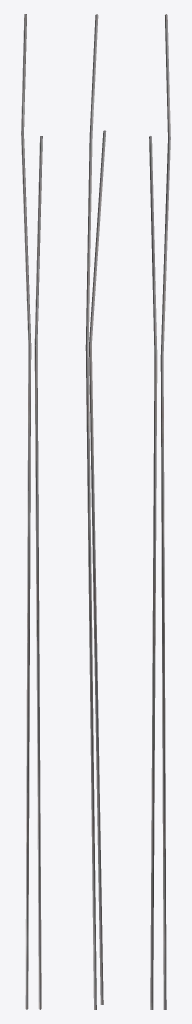
The picture shows the model from 3 angles, left to right: view 1: azimuth 90°, elevation 25°; view 2: azimuth 150°, elevation 25°; view 3: azimuth 270°, elevation 25°; orthographic projection.
Parts seen in each view (by area): view 1: node_id8; view 2: node_id8; view 3: node_id8.
Part boxes in pixels (bbox=[...]): node_id8: bbox=[21, 14, 42, 1009]; node_id8: bbox=[85, 14, 106, 1009]; node_id8: bbox=[149, 14, 170, 1009].
Size of the model in its own units: 0.00609 by 0.4181 by 0.0083.
Materials: 1 (1 with a texture image).
